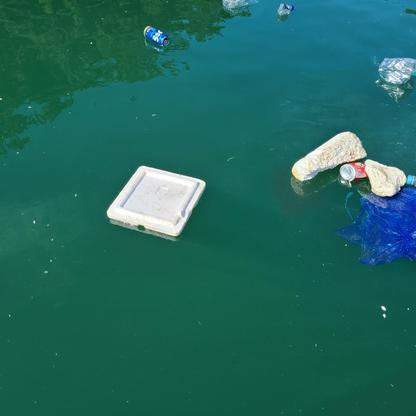can: (144, 25, 171, 45), (339, 162, 366, 180)
foam: (104, 166, 206, 238), (292, 130, 365, 180), (367, 158, 406, 196)
plastic bag: (340, 188, 416, 264)
plastic bottle: (379, 57, 416, 86), (277, 3, 294, 15)
